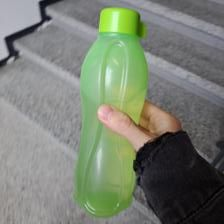bottle: (73, 6, 149, 215)
